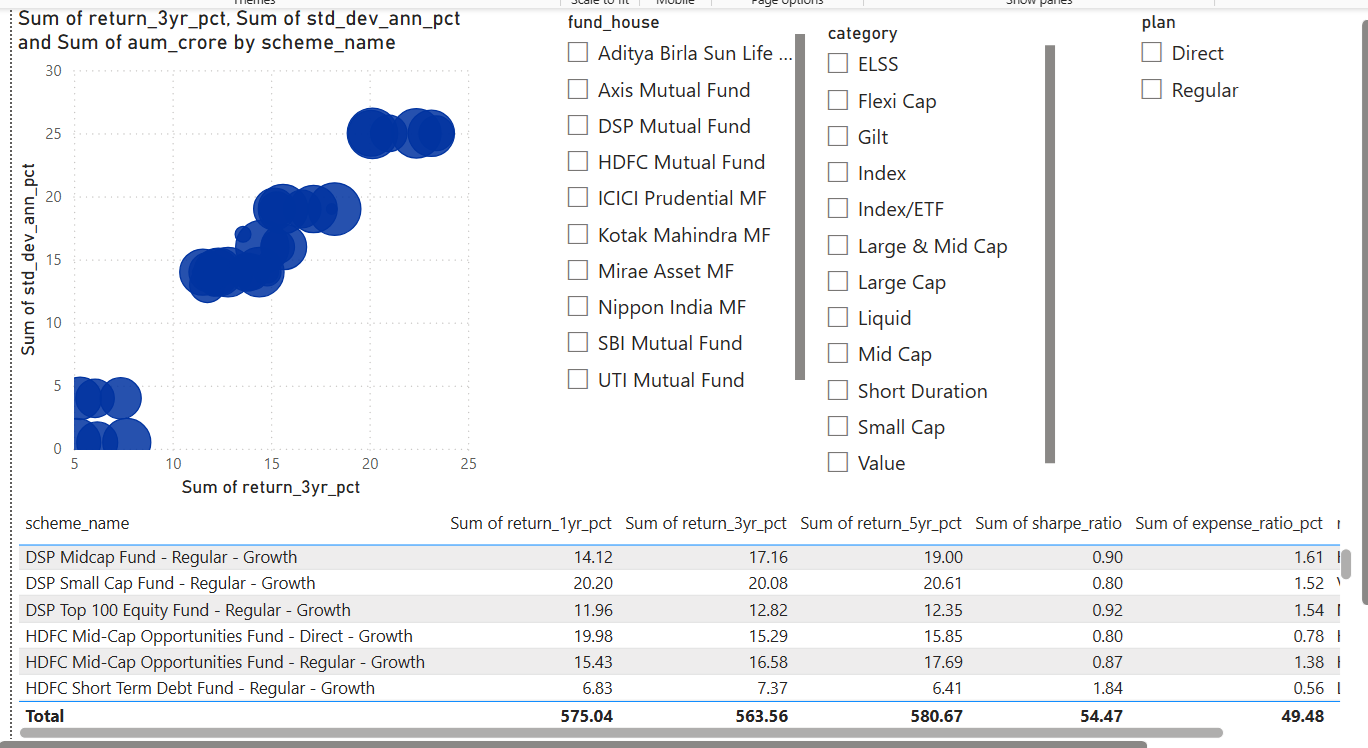

Layout of this report page (visuals, bound fields, positions):
{"tool":"powerbi","page":{"name":"Fund Performance","canvas":[1280,720],"ordinal":1},"visuals":[{"type":"scatterChart","fields":{"X":["Sum(scheme_performance_clean.return_3yr_pct)"],"Y":["Sum(scheme_performance_clean.std_dev_ann_pct)"],"Size":["Sum(scheme_performance_clean.aum_crore)"],"Category":["scheme_performance_clean.scheme_name"]},"box":[11,0,542,532.4],"z":0},{"type":"tableEx","fields":{"Values":["scheme_performance_clean.scheme_name","Sum(scheme_performance_clean.return_1yr_pct)","Sum(scheme_performance_clean.return_3yr_pct)","Sum(scheme_performance_clean.return_5yr_pct)","Sum(scheme_performance_clean.sharpe_ratio)","Sum(scheme_performance_clean.expense_ratio_pct)","scheme_performance_clean.risk_grade"]},"box":[11,542,542,178],"z":1},{"type":"slicer","fields":{"Values":["scheme_performance_clean.fund_house"]},"box":[562.6,0,308.7,373.2],"z":2},{"type":"slicer","fields":{"Values":["scheme_performance_clean.category"]},"box":[871.4,0,408.9,392.5],"z":3},{"type":"slicer","fields":{"Values":["scheme_performance_clean.plan"]},"box":[587,392.5,309.4,149.2],"z":4}]}

Visuals, with their boxes on the page's 1280x720 design canvas (x1, y1, x2, y2). These are canvas units, not pixel positions in the 1368x748 screenshot, which may show the page scaled, cropped or inside an application window:
scatterChart - Sum(scheme_performance_clean.return_3yr_pct) x Sum(scheme_performance_clean.std_dev_ann_pct): box(11, 0, 553, 532)
tableEx - scheme_performance_clean.scheme_name x Sum(scheme_performance_clean.return_1yr_pct): box(11, 542, 553, 720)
slicer - scheme_performance_clean.fund_house: box(563, 0, 871, 373)
slicer - scheme_performance_clean.category: box(871, 0, 1280, 392)
slicer - scheme_performance_clean.plan: box(587, 392, 896, 542)
